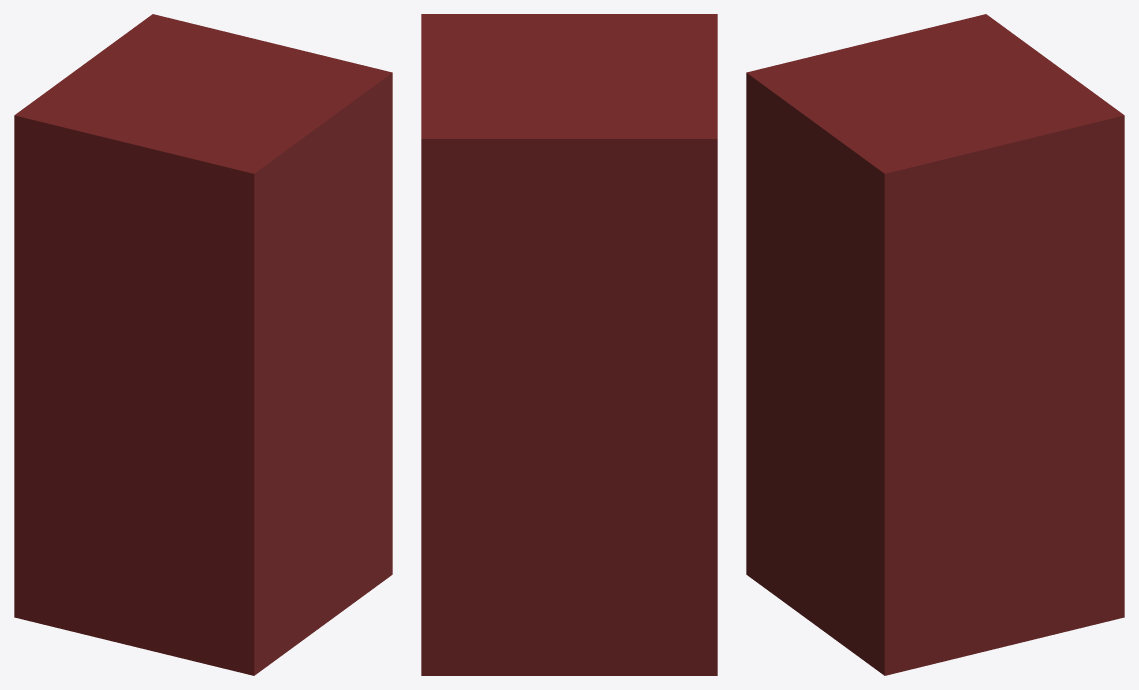
The model's file is Prop_DecorBLOD1.fbx.
The picture shows the model from 3 angles, left to right: view 1: azimuth 30°, elevation 25°; view 2: azimuth 150°, elevation 25°; view 3: azimuth 270°, elevation 25°; orthographic projection. The views are drawn at different scales.
Visible parts, largest first — view 1: Prop_DecorBLOD1; view 2: Prop_DecorBLOD1; view 3: Prop_DecorBLOD1.
Part boxes in pixels (left/top/right/bottom): Prop_DecorBLOD1: left=14, top=14, right=392, bottom=675; Prop_DecorBLOD1: left=421, top=14, right=717, bottom=675; Prop_DecorBLOD1: left=746, top=14, right=1124, bottom=675.
Size of the model in its own units: 28.05 by 41.07 by 28.05.
